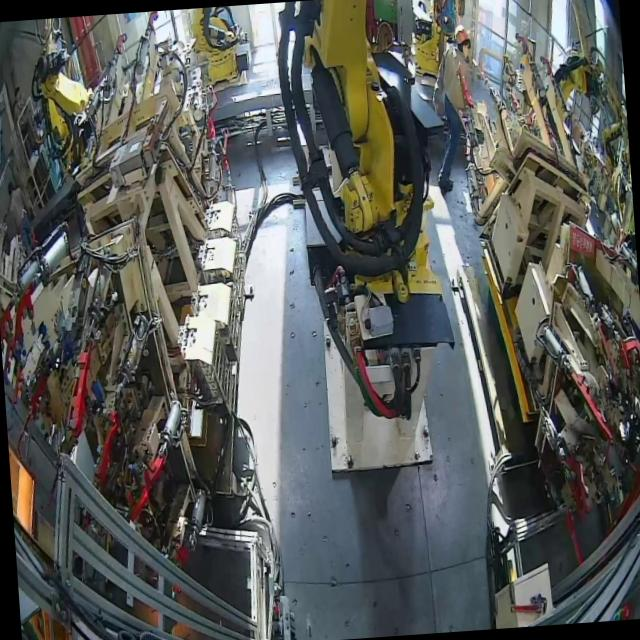Person: (426, 22, 482, 192), (2, 178, 37, 257), (18, 206, 32, 257)
